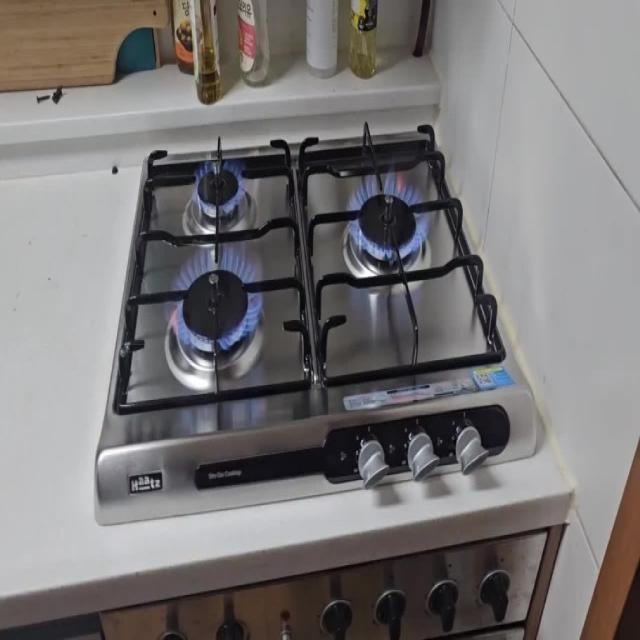knob_OFF: (304, 173, 484, 315), (144, 246, 306, 378), (147, 146, 288, 242)
